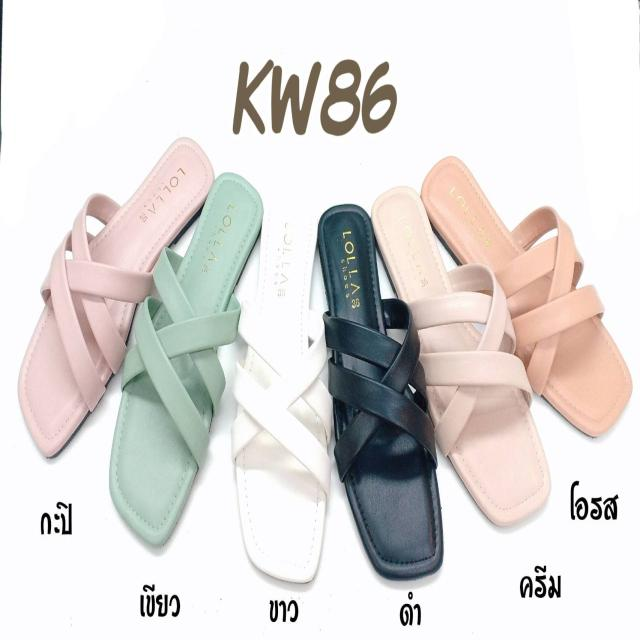black: (313, 206, 446, 579)
cream: (376, 188, 553, 526)
green: (114, 175, 260, 549)
kapi: (18, 127, 214, 464)
orot: (427, 156, 627, 435)
white: (233, 194, 324, 582)
